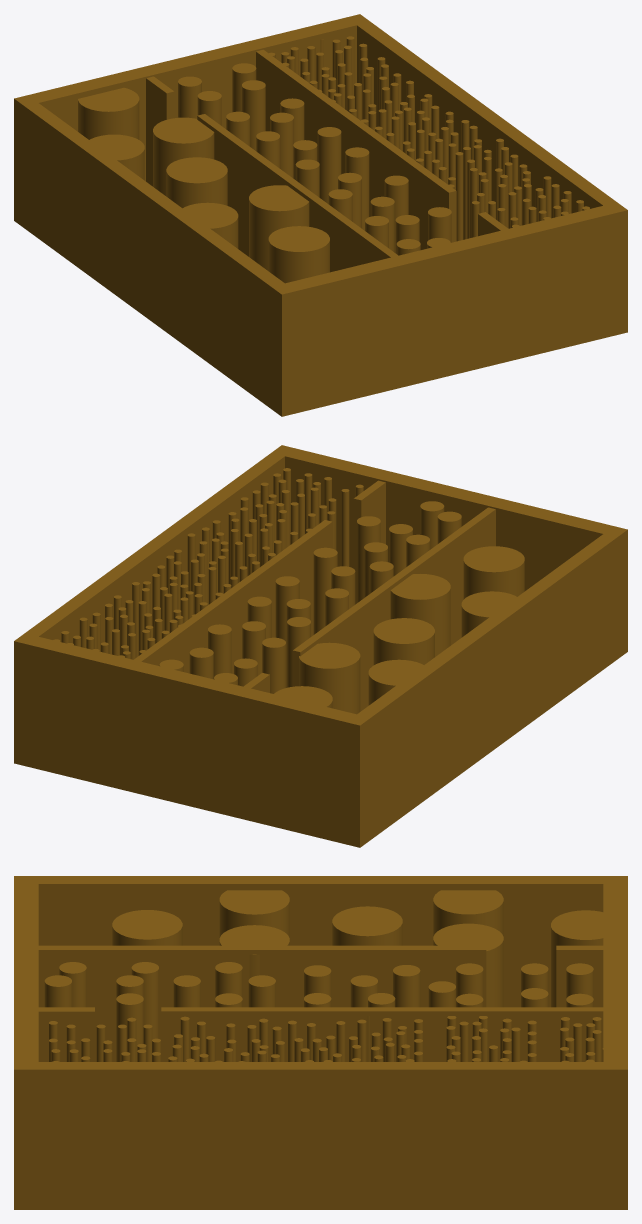
Rendered from Map8.obj.
3 views of the same model, one above another, from view 1: azimuth 30°, elevation 25°; view 2: azimuth 150°, elevation 25°; view 3: azimuth 270°, elevation 25° (orthographic). The views are drawn at different scales.
Visible parts, largest first — view 1: MAP.EDGE, OBSTACLE; view 2: MAP.EDGE, OBSTACLE; view 3: MAP.EDGE, OBSTACLE.
Boxes of the visible parts, left/top/right/bottom form: MAP.EDGE: left=14, top=14, right=627, bottom=416; OBSTACLE: left=78, top=36, right=589, bottom=283; MAP.EDGE: left=14, top=445, right=627, bottom=847; OBSTACLE: left=53, top=468, right=524, bottom=714; MAP.EDGE: left=14, top=876, right=627, bottom=1209; OBSTACLE: left=38, top=890, right=603, bottom=1061.
Bounding box in the file's own units: 5990 × 2022 × 8030.
